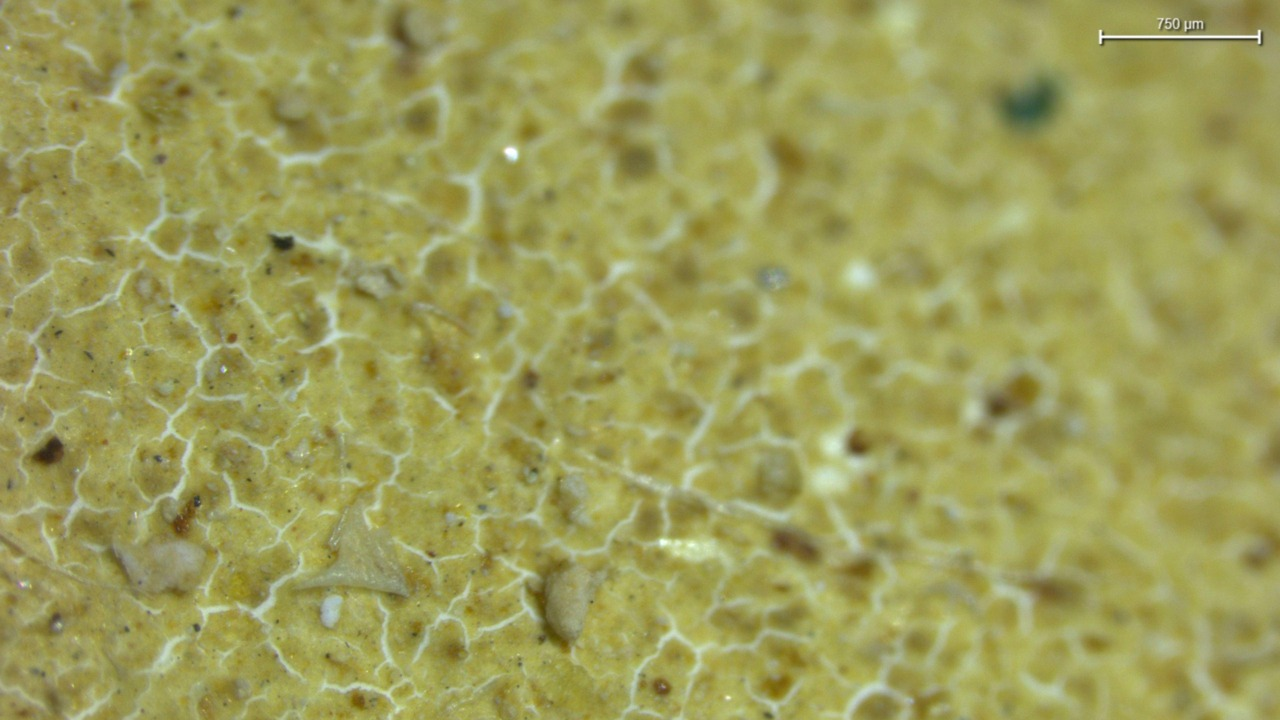microplastic_fragment: (111, 539, 206, 593), (544, 566, 607, 645)
